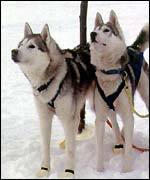dog: (87, 10, 149, 173)
